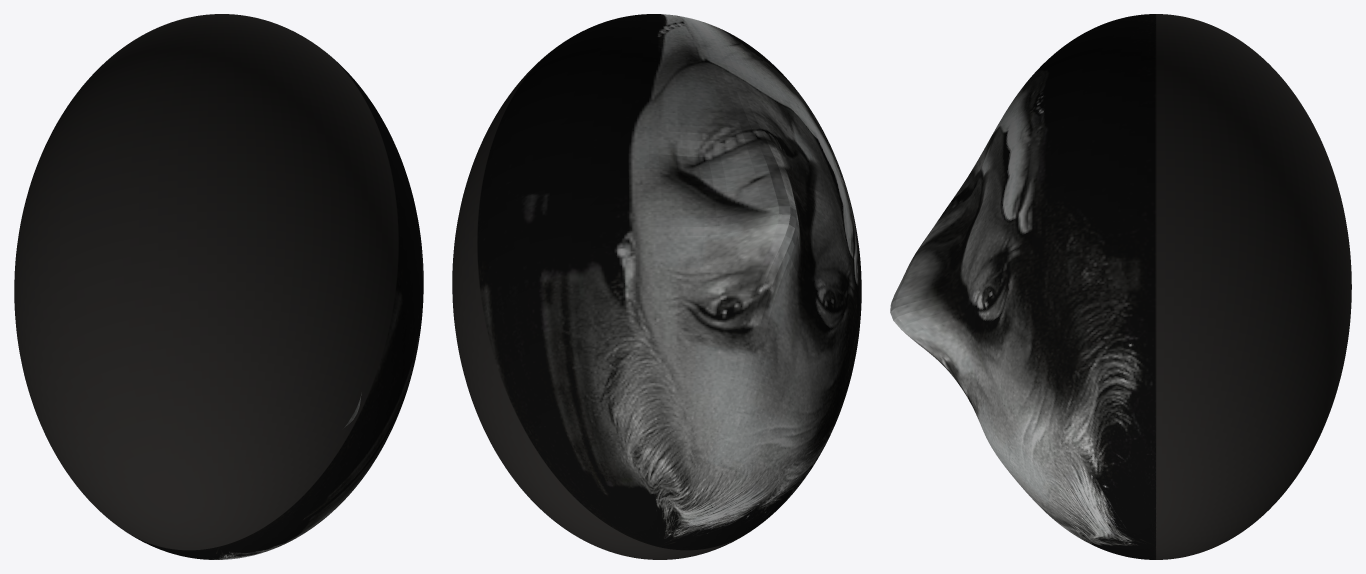
File: melanie_klein_face.glb
3 renders of one model, left to right at view 1: azimuth 30°, elevation 25°; view 2: azimuth 150°, elevation 25°; view 3: azimuth 270°, elevation 25°, orthographic.
Parts seen in each view (by area): view 1: world; view 2: world; view 3: world.
Part boxes in pixels (bbox=[...]): world: bbox=[14, 14, 423, 559]; world: bbox=[452, 14, 861, 559]; world: bbox=[890, 14, 1351, 559].
Bounding box in the file's own units: 1.52 × 2.1 × 1.7.
1 material, 1 textured.
